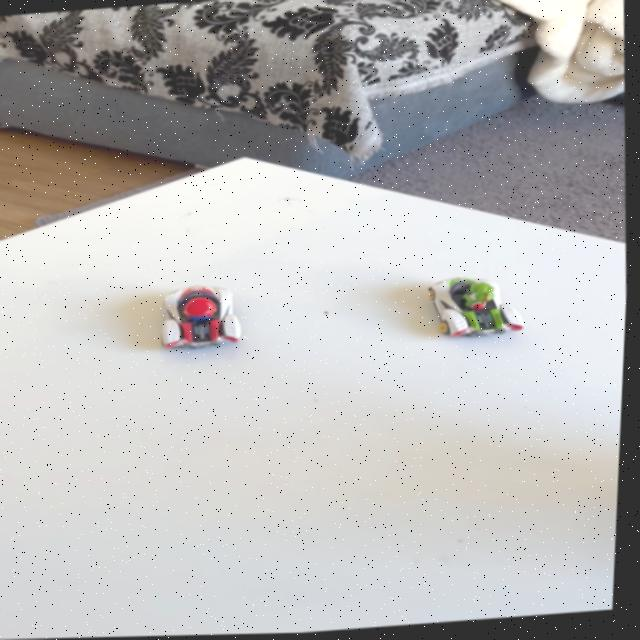mario: (136, 264, 268, 371)
yoshi: (408, 260, 540, 352)
